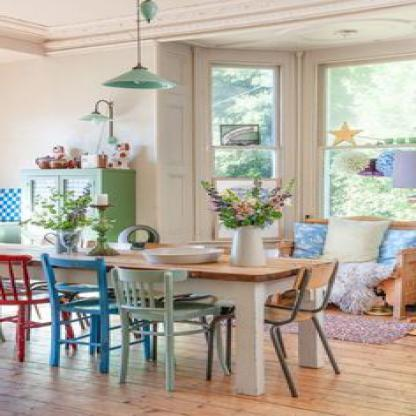chair: (209, 264, 339, 396), (115, 263, 204, 398), (50, 253, 114, 374), (0, 254, 48, 364)
light: (107, 0, 173, 96), (79, 97, 122, 145)
sofa: (274, 213, 416, 315)
table: (0, 249, 327, 392)
